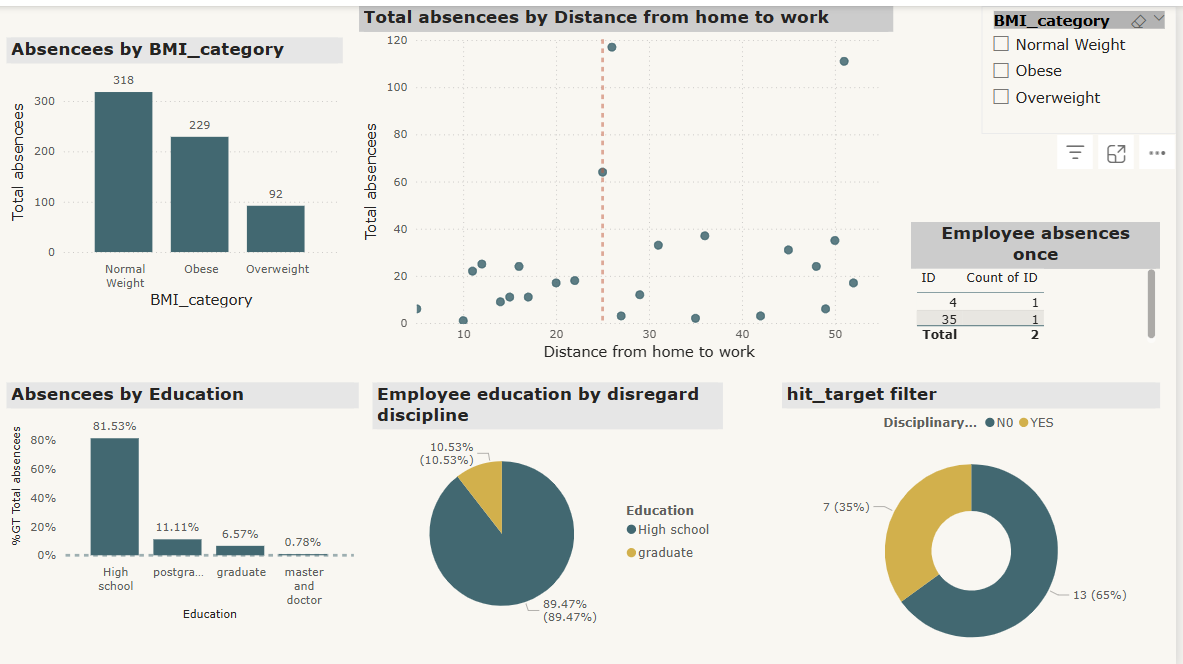

The dashboard page shown, as its layout file describes it:
{"tool":"powerbi","page":{"name":"Page 2","canvas":[1280,720],"ordinal":1},"visuals":[{"type":"columnChart","title":" Absencees by BMI_category","fields":{"Category":["Employee_info.BMI_category"],"Y":["Absenteeisms.Total absencees"]},"box":[11.4,34.2,364.3,297.7],"z":0},{"type":"columnChart","title":"Absencees by Education ","fields":{"Category":["Employee_info.Education (groups)"],"Y":["Absenteeisms.Total absencees"]},"box":[11.3,408.2,381.7,262.7],"z":1000},{"type":"slicer","fields":{"Values":["Employee_info.BMI_category"]},"box":[1068.6,0,211.5,138.3],"z":2000},{"type":"pieChart","title":"Employee education by disregard discipline","fields":{"Category":["Employee_info.Education (groups)"],"Y":["Divide(Absenteeisms.disregard_discipline, ScopedEval(Absenteeisms.disregard_discipline, []))"]},"box":[408.2,408.2,379.8,281.6],"z":3000},{"type":"donutChart","title":"hit_target filter","fields":{"Category":["Absenteeisms.Disciplinary failure (groups)"],"Y":["Absenteeisms.hit_target<90"]},"box":[852.3,408.3,409.9,312.3],"z":4000},{"type":"tableEx","title":"Employee absences once ","fields":{"Values":["Absenteeisms.ID","CountNonNull(Absenteeisms.ID)"]},"box":[992.1,234.3,270.2,136.1],"z":5000},{"type":"scatterChart","fields":{"X":["Employee_info.Distance from home to work"],"Y":["Absenteeisms.Total absencees"]},"box":[393.6,0,579,388.7],"z":6000}]}

Visuals, with their boxes in screenshot pixels (x1, y1, x2, y2), scaled from the page's 1280x720 canvas onto the 1183x664 screenshot:
" Absencees by BMI_category" columnChart: (11,32,347,306)
"Absencees by Education " columnChart: (10,376,363,619)
slicer - Employee_info.BMI_category: (988,0,1182,128)
"Employee education by disregard discipline" pieChart: (377,376,728,636)
"hit_target filter" donutChart: (788,377,1167,663)
"Employee absences once " tableEx: (917,216,1167,342)
scatterChart - Employee_info.Distance from home to work x Absenteeisms.Total absencees: (364,0,899,358)
